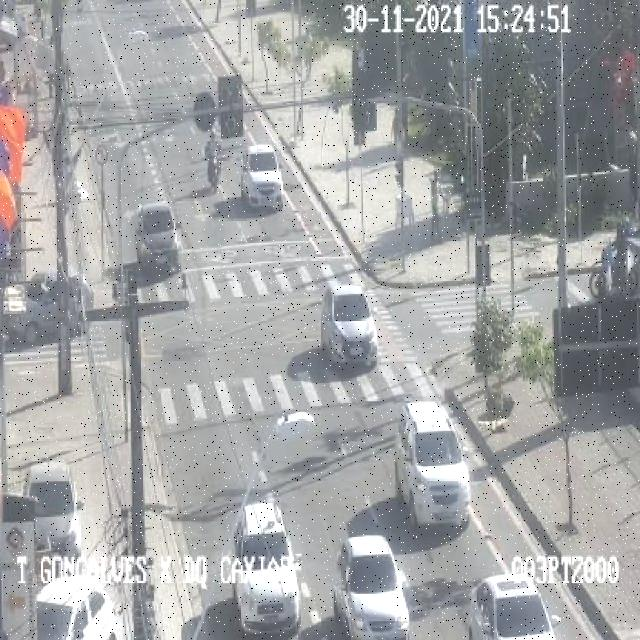car: (394, 401, 471, 528), (233, 502, 302, 640), (334, 533, 409, 639), (4, 270, 93, 344), (24, 458, 86, 562), (466, 572, 560, 640), (36, 574, 116, 640), (320, 282, 378, 370), (136, 202, 182, 276), (240, 142, 285, 210)
motorbike: (588, 218, 640, 299), (428, 168, 444, 244), (204, 128, 222, 192), (389, 106, 403, 160)
